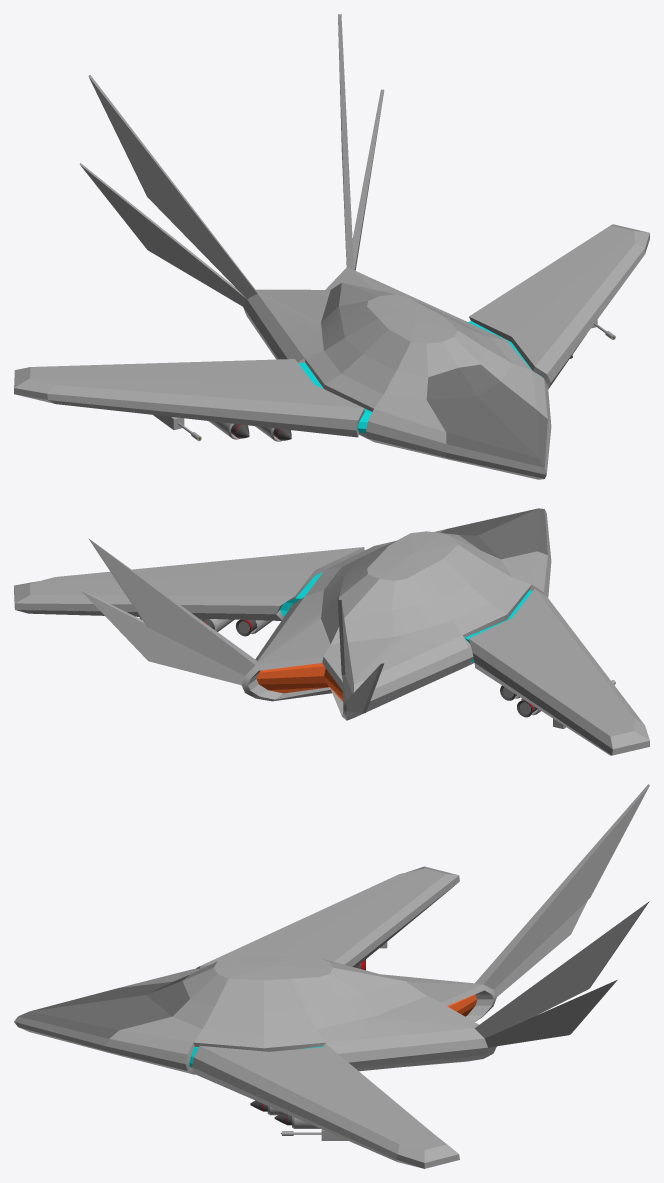
File: AirPlane_Model_New.fbx
The picture shows the model from 3 angles, top to bottom: view 1: azimuth 30°, elevation 25°; view 2: azimuth 150°, elevation 25°; view 3: azimuth 270°, elevation 25°; orthographic projection. The views are drawn at different scales.
Parts seen in each view (by area): view 1: pPlane5; view 2: pPlane5; view 3: pPlane5.
Boxes of the visible parts, bbox=[...] form: pPlane5: bbox=[14, 14, 649, 479]; pPlane5: bbox=[14, 508, 649, 755]; pPlane5: bbox=[14, 784, 649, 1168].
Bounding box in the file's own units: 6.05 × 5.48 × 2.
